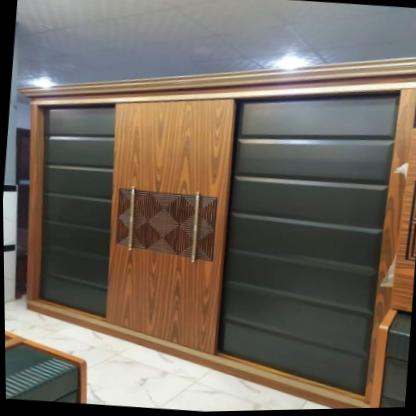Ceramic floor: (4, 299, 327, 413)
Closet: (13, 60, 416, 410)
